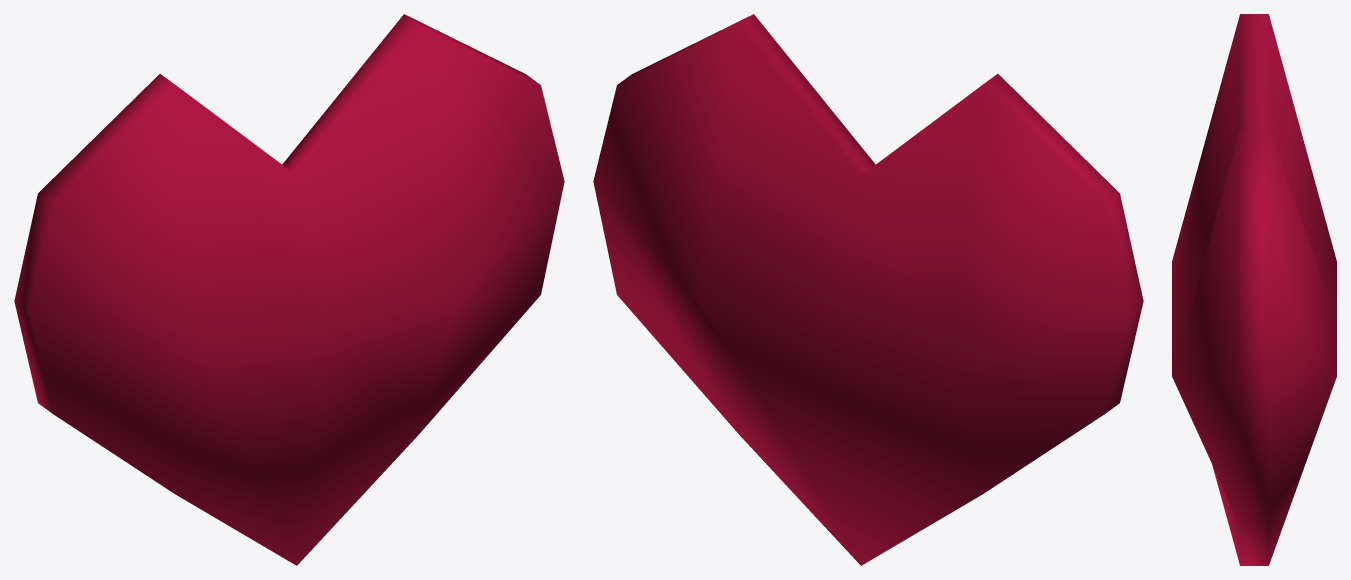
File: heart.glb
The picture shows the model from 3 angles, left to right: view 1: azimuth 30°, elevation 25°; view 2: azimuth 150°, elevation 25°; view 3: azimuth 270°, elevation 25°; orthographic projection. The views are drawn at different scales.
Visible parts, largest first — view 1: Cube; view 2: Cube; view 3: Cube.
Boxes of the visible parts, bbox=[...] form: Cube: bbox=[14, 14, 564, 565]; Cube: bbox=[593, 14, 1143, 565]; Cube: bbox=[1172, 14, 1336, 565].
Size of the model in its own units: 2.19 by 2 by 0.605.
